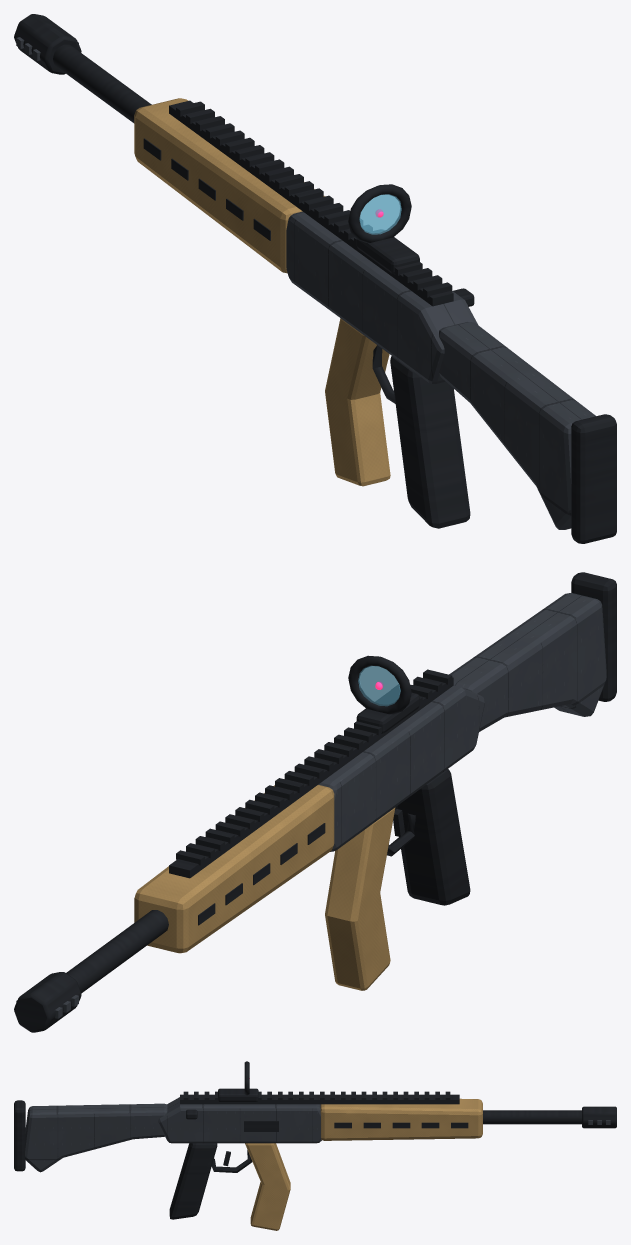
Rendered from weapon_striker_ar.glb.
3 renders of one model, top to bottom at view 1: azimuth 30°, elevation 25°; view 2: azimuth 150°, elevation 25°; view 3: azimuth 270°, elevation 25°, orthographic. The views are drawn at different scales.
Visible parts, largest first — view 1: weapon_striker_ar; view 2: weapon_striker_ar; view 3: weapon_striker_ar.
Part boxes in pixels (box(x1,y1,x2,y2)): weapon_striker_ar: box(14, 14, 616, 543); weapon_striker_ar: box(14, 572, 616, 1032); weapon_striker_ar: box(14, 1061, 616, 1230).
Size of the model in its own units: 0.0733 by 0.312 by 1.03.
Materials: 5 (3 with a texture image).
